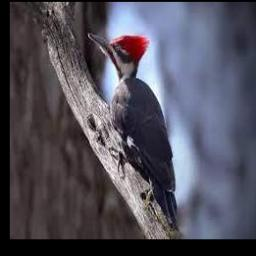Woodpecker: (88, 32, 179, 228)
